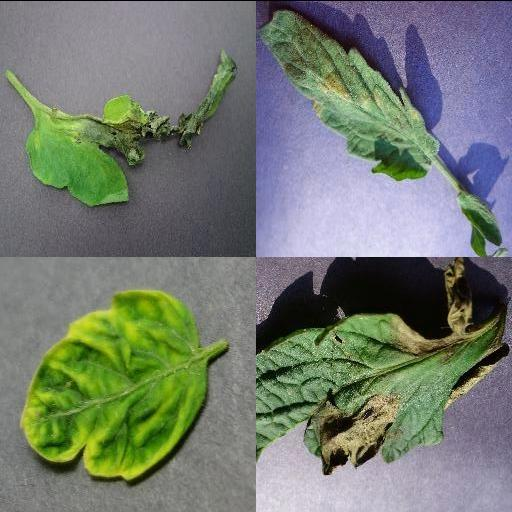Late Blight: (256, 256, 510, 476), (25, 48, 241, 206)
Leaf Mold: (256, 7, 441, 180)
Yellow Leaf Curl Virus: (19, 288, 211, 480)
